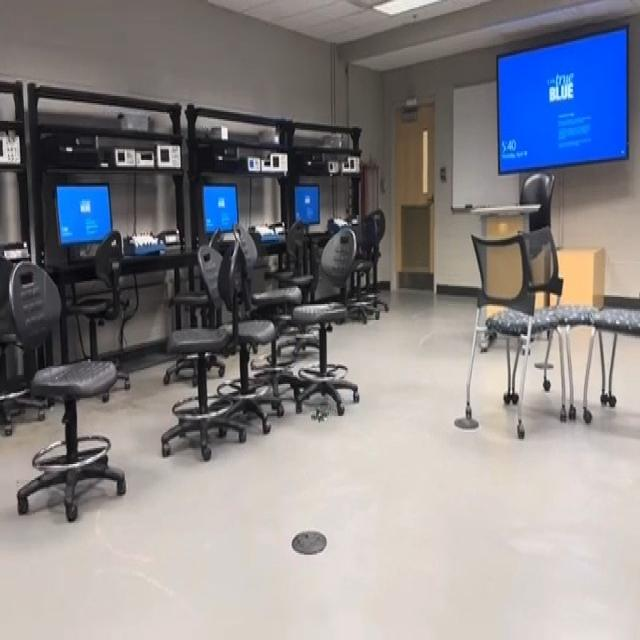drone: (306, 396, 336, 437)
